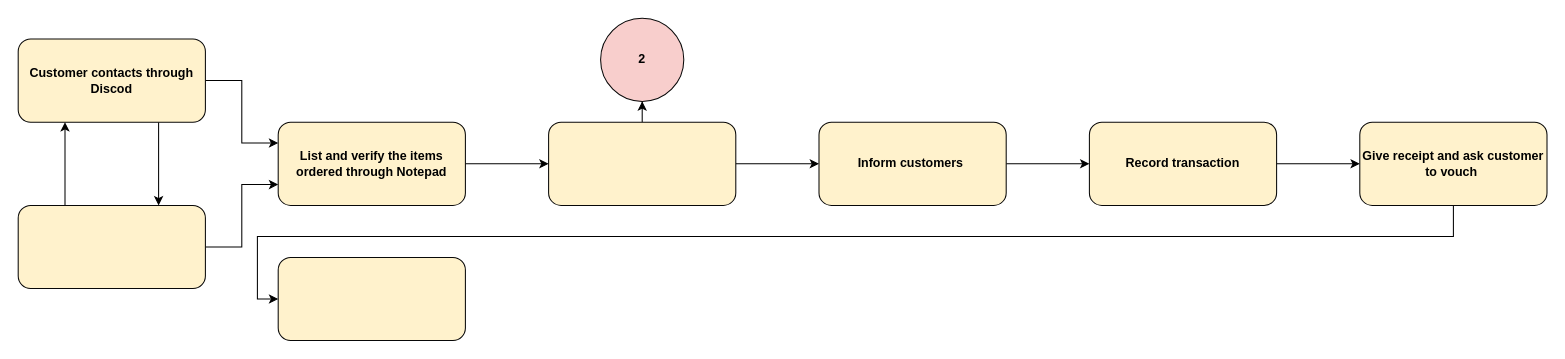
This 1565x359 diagram has some shape labels left out. The shapes that lost their labels are listed below. From the top down, each one's centre as x and y in pixels, then its label:
At (x=642, y=163): "Check if items exist on Roblox and tick".
At (x=111, y=246): "Customer made a payment".
At (x=371, y=298): "Update customer base".
